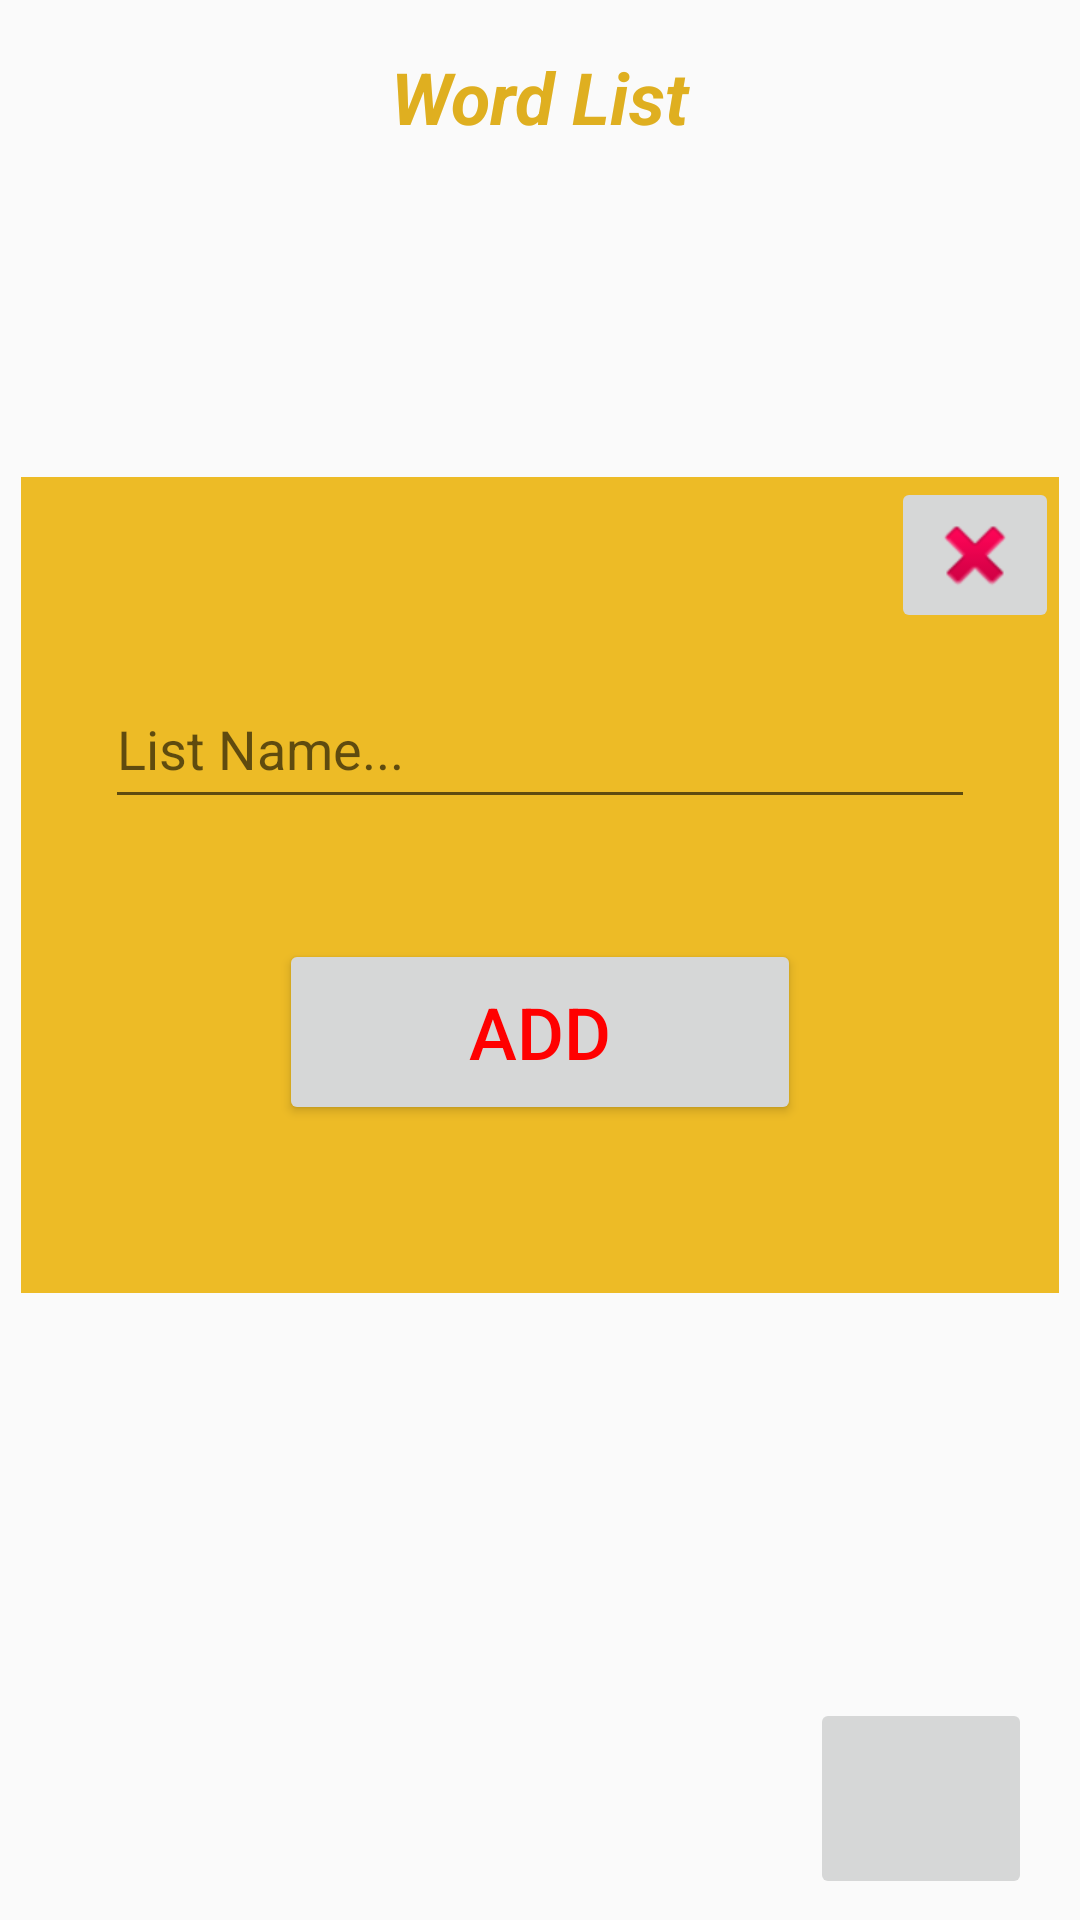

Icon bounding boxes for this 1080 x 1920 phone screenshot, format box=[x1, y1, x2, y2]:
delete: box=[903, 495, 1047, 615]
